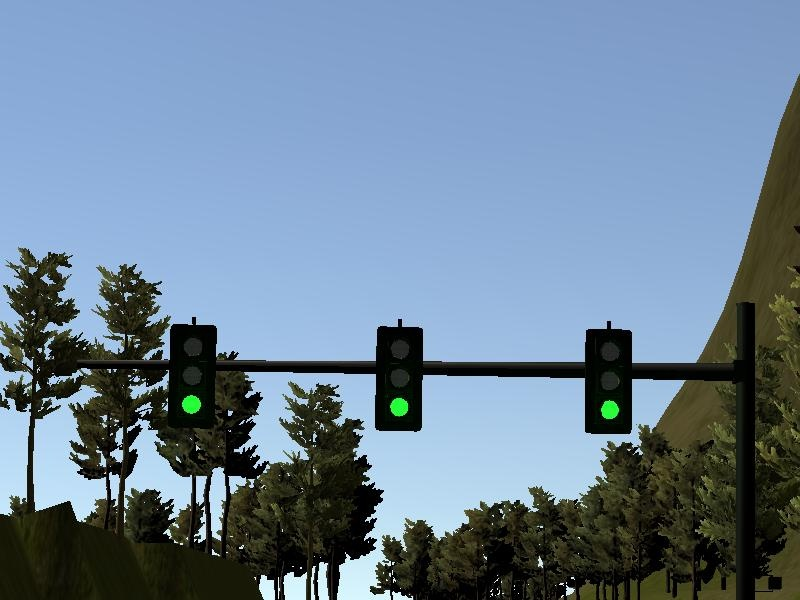green: (582, 330, 636, 432), (168, 321, 217, 431), (378, 326, 424, 431)
